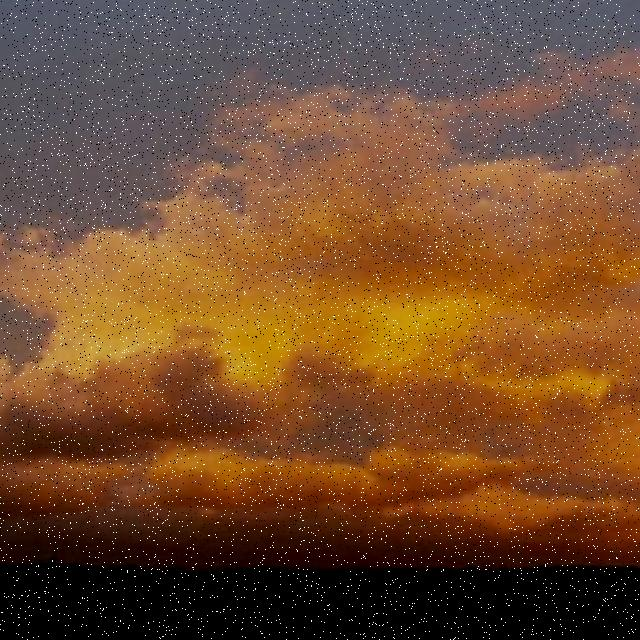Sc: (1, 42, 640, 502)
